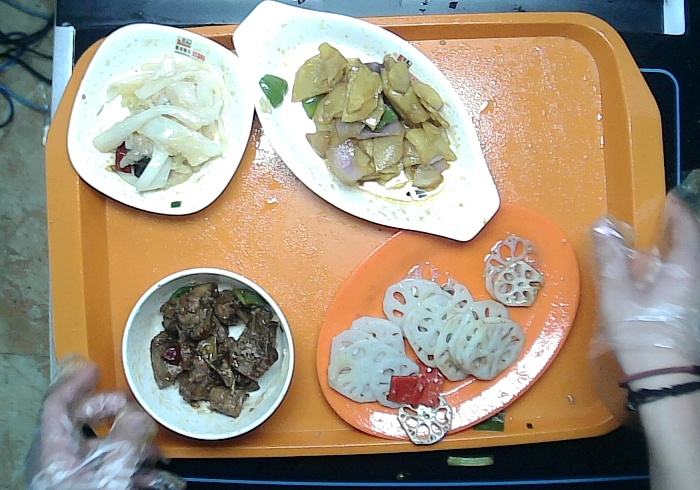NLDX-Bai_Se_Xiao_Fang_Die: (66, 22, 255, 215)
NLDX-Fan_Wan: (121, 267, 295, 440)
NLDX-Ju_Se_Pan: (314, 202, 583, 443)
NLDX-Yu_Pan: (232, 1, 501, 243)
